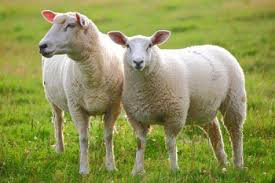koyun: (106, 31, 245, 175), (40, 9, 118, 177)
